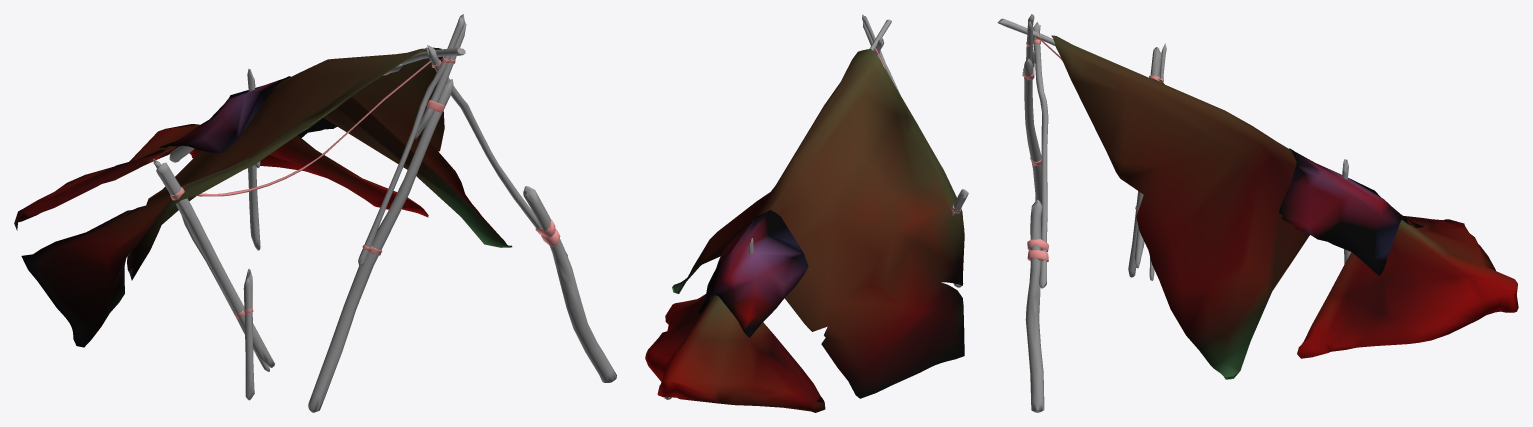
Rendered from tent_generic_A.gltf.
The picture shows the model from 3 angles, left to right: view 1: azimuth 30°, elevation 25°; view 2: azimuth 150°, elevation 25°; view 3: azimuth 270°, elevation 25°; orthographic projection. The views are drawn at different scales.
Visible parts, largest first — view 1: tent_generic_A; view 2: tent_generic_A; view 3: tent_generic_A.
Boxes of the visible parts, bbox=[...] form: tent_generic_A: bbox=[14, 14, 616, 412]; tent_generic_A: bbox=[645, 14, 968, 412]; tent_generic_A: bbox=[997, 14, 1518, 412].
Bounding box in the file's own units: 6.39 × 5.72 × 8.
